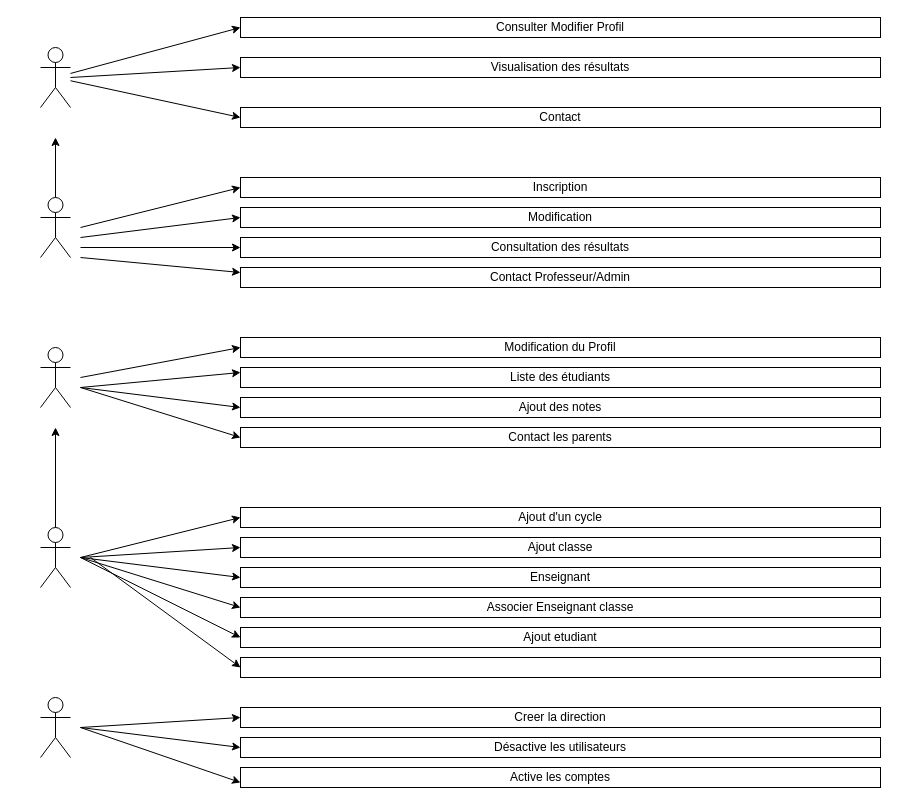
Some shapes in this 898 by 808 pixel diagram are drawn without their labels. The centre of each missing label's shape, as x and y in pixels:
Administrateur: point (55, 727)
Associer étudiant classe: point (560, 667)
Direction: point (55, 557)
Etudiant: point (55, 77)
Parent: point (55, 227)
Professeur: point (55, 377)
